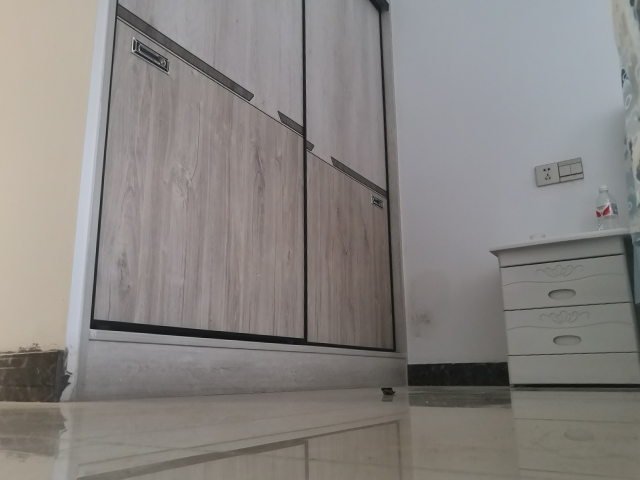cabinet: (63, 1, 410, 404), (485, 224, 640, 391)
